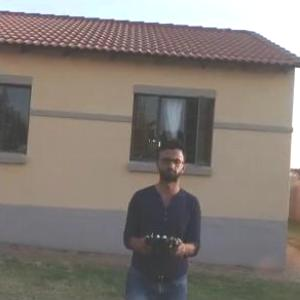follow: (116, 129, 204, 299)
